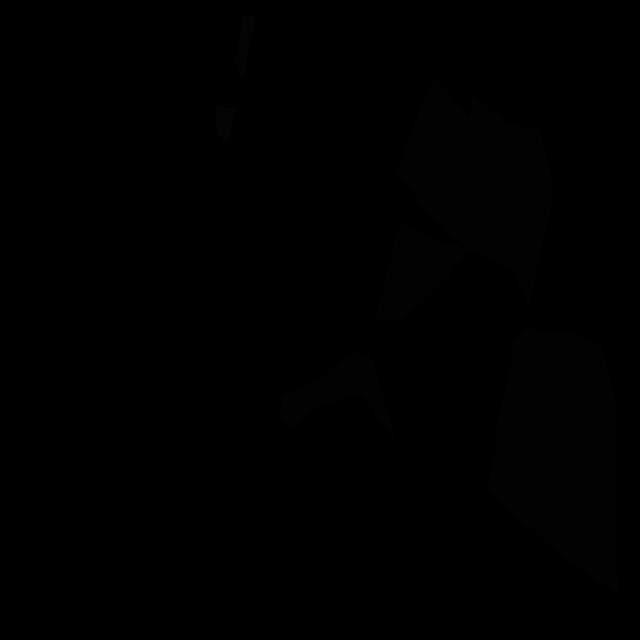cardboard: (395, 74, 554, 305), (486, 326, 619, 595), (280, 349, 397, 441), (375, 220, 468, 320)
soft_plastic: (235, 15, 256, 82), (214, 106, 236, 142)
